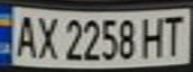2: (60, 15, 84, 62), (81, 16, 103, 63)
5: (100, 16, 121, 62)
8: (115, 16, 142, 61)
A: (9, 11, 39, 60)
H: (139, 14, 169, 58)
T: (157, 11, 190, 57)
X: (33, 12, 60, 61)
